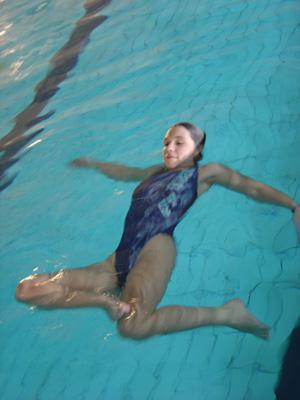swimmer: (14, 122, 300, 342)
